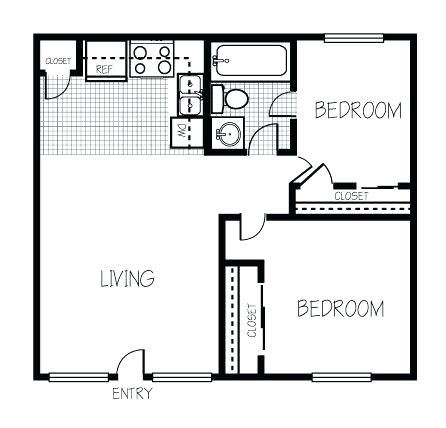door: (112, 322, 155, 386), (264, 86, 304, 125), (249, 119, 286, 161), (234, 206, 271, 246), (39, 65, 74, 103), (296, 155, 335, 189)
room: (38, 35, 221, 382), (208, 35, 422, 222), (219, 211, 424, 388)
wall: (26, 30, 49, 388), (31, 24, 324, 51), (404, 25, 421, 386), (265, 203, 420, 233), (211, 210, 235, 386), (210, 364, 312, 391), (196, 28, 217, 159), (370, 366, 426, 394), (198, 140, 250, 166), (285, 30, 303, 96), (283, 112, 305, 160), (285, 175, 305, 225), (214, 254, 269, 272), (384, 28, 423, 48), (255, 352, 269, 384)
window: (323, 21, 384, 59), (311, 366, 375, 388), (153, 369, 217, 391), (50, 366, 110, 386)
